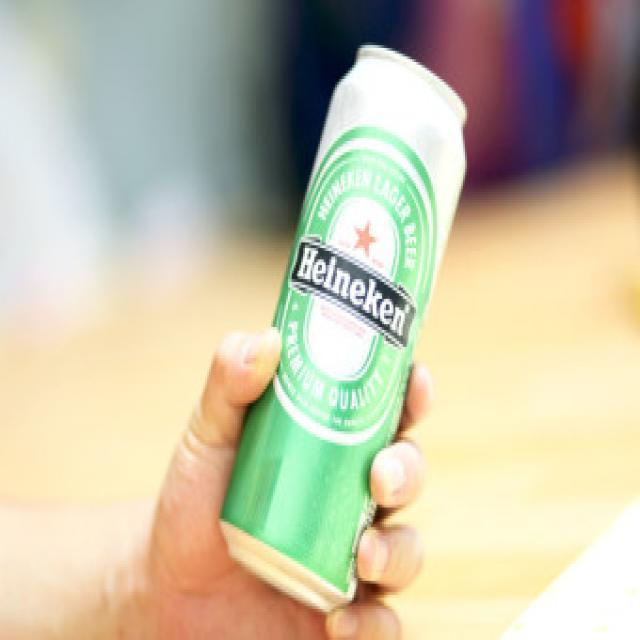kimloai: (221, 45, 466, 611)
